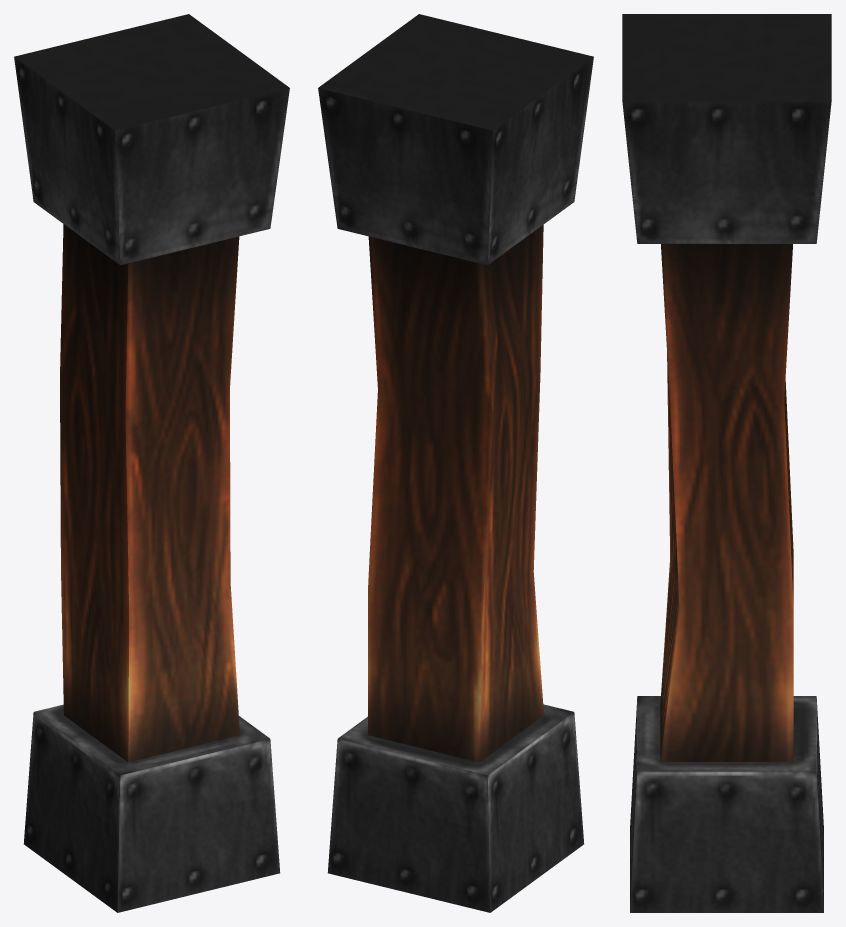
The model's file is pillar.FBX.
3 views of the same model, side by side, from view 1: azimuth 30°, elevation 25°; view 2: azimuth 150°, elevation 25°; view 3: azimuth 270°, elevation 25° (orthographic). The views are drawn at different scales.
Visible parts, largest first — view 1: pillar; view 2: pillar; view 3: pillar.
Part boxes in pixels (box(x1,y1,x2,y2)): pillar: box(14, 14, 289, 912); pillar: box(318, 14, 593, 912); pillar: box(622, 14, 831, 912).
Bounding box in the file's own units: 6.21 × 26.66 × 6.21.
Materials: 1 (1 with a texture image).
